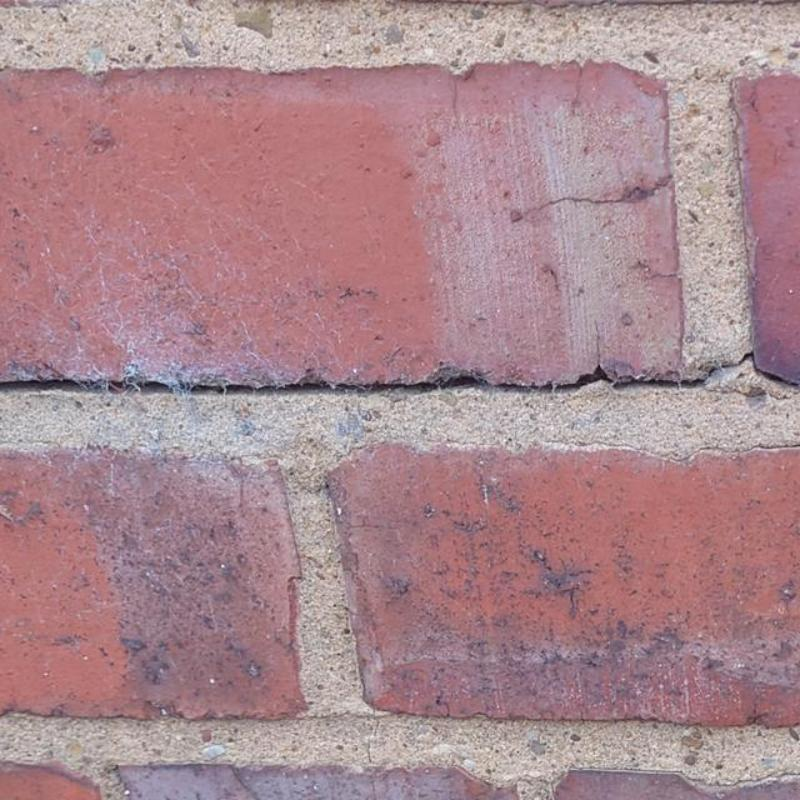crack: (1, 350, 799, 394), (526, 178, 672, 211)
